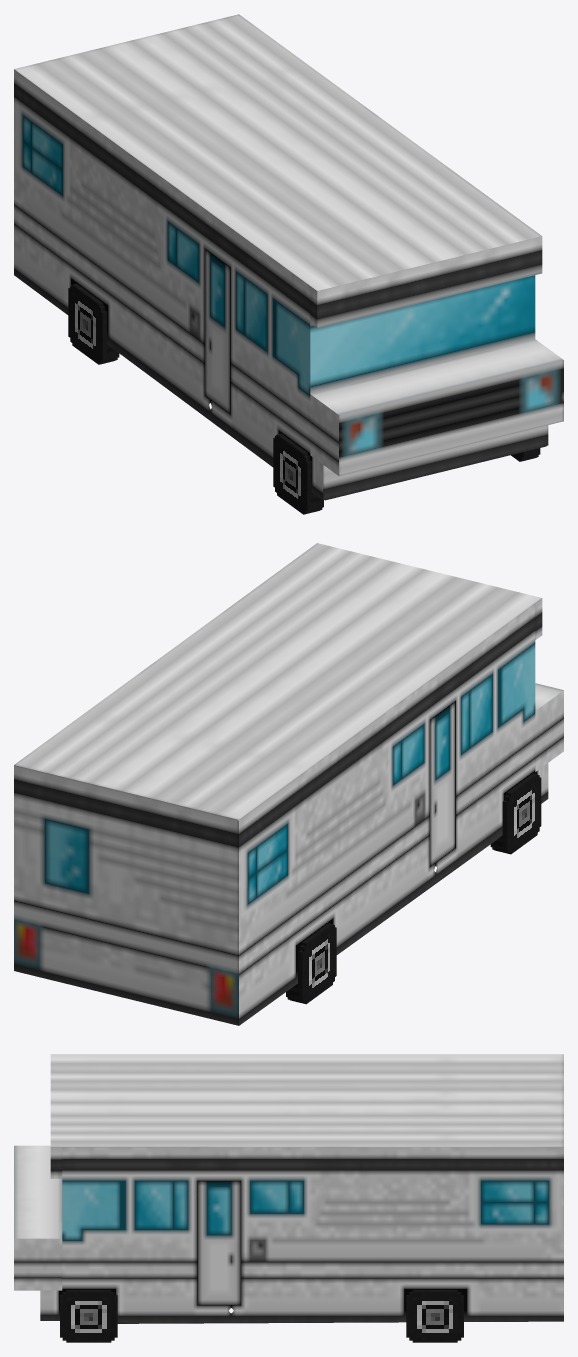
Rendered from BGN_RV.fbx.
3 renders of one model, top to bottom at view 1: azimuth 30°, elevation 25°; view 2: azimuth 150°, elevation 25°; view 3: azimuth 270°, elevation 25°, orthographic. The views are drawn at different scales.
Visible parts, largest first — view 1: BGN_RV, R_R__3_, R_R__4_; view 2: BGN_RV, R_R__3_, R_R__4_; view 3: BGN_RV, R_R__2_, R_R__1_.
Part boxes in pixels (<box>): BGN_RV: <box>14,14,563,500</box>; R_R__3_: <box>273,433,323,514</box>; R_R__4_: <box>68,283,119,364</box>; BGN_RV: <box>14,543,563,1025</box>; R_R__3_: <box>490,773,541,854</box>; R_R__4_: <box>286,923,336,1004</box>; BGN_RV: <box>14,1054,563,1323</box>; R_R__2_: <box>406,1290,463,1342</box>; R_R__1_: <box>60,1290,117,1342</box>.
Size of the model in its own units: 187 by 176 by 451.
Materials: 2 (2 with a texture image).
